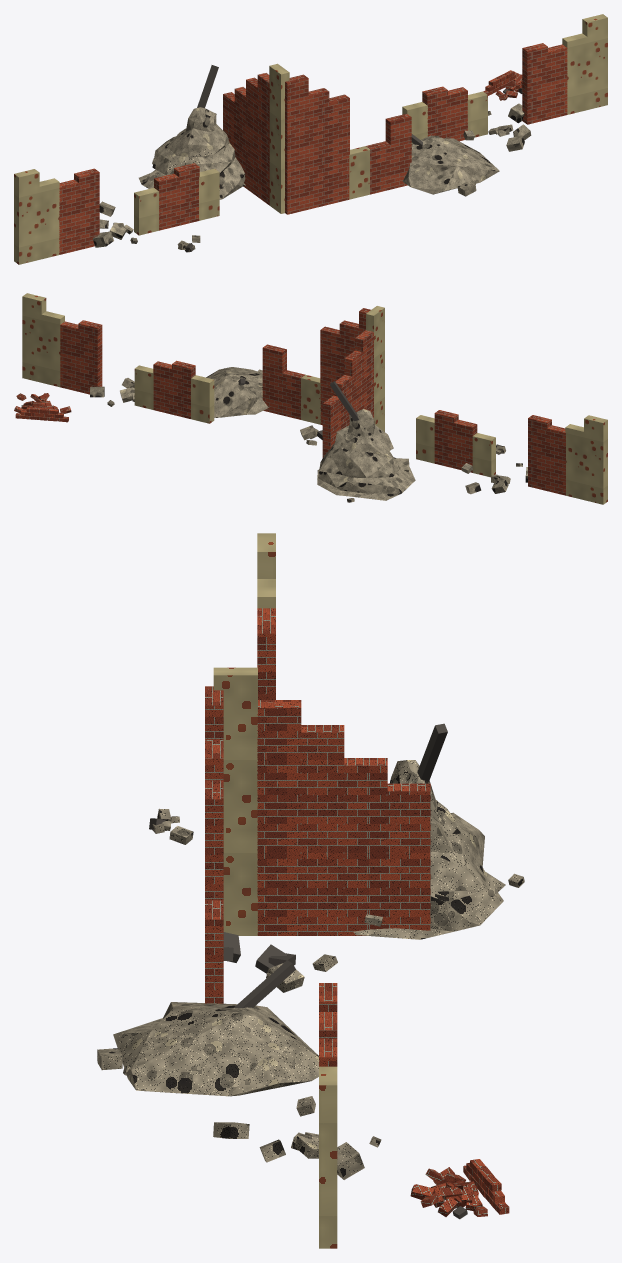
The model's file is ruinset_street_row.glb.
The picture shows the model from 3 angles, top to bottom: view 1: azimuth 30°, elevation 25°; view 2: azimuth 150°, elevation 25°; view 3: azimuth 270°, elevation 25°; orthographic projection. The views are drawn at different scales.
Visible parts, largest first — view 1: ruinset_street_row-col; view 2: ruinset_street_row-col; view 3: ruinset_street_row-col.
Boxes of the visible parts, box(x1,y1,x2,y2) form: ruinset_street_row-col: box(14, 14, 607, 264); ruinset_street_row-col: box(14, 293, 607, 504); ruinset_street_row-col: box(97, 533, 524, 1248).
Bounding box in the file's own units: 12.71 × 2.83 × 4.16.
Materials: 4 (3 with a texture image).
